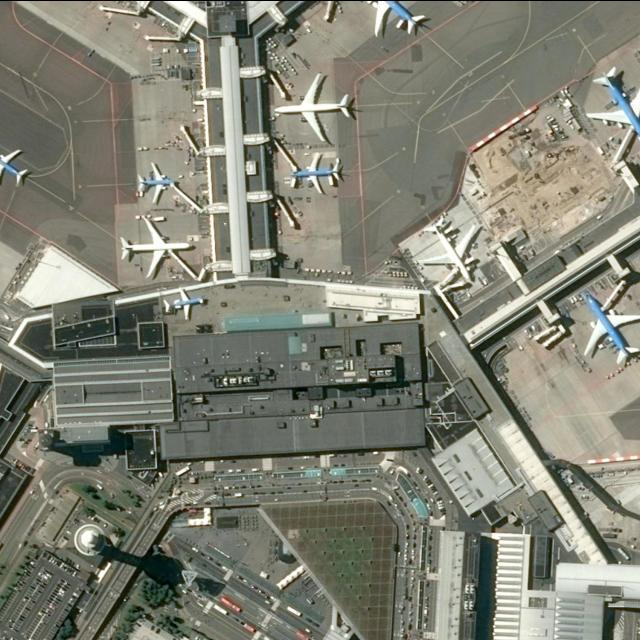Aircraft: (274, 76, 358, 142), (582, 291, 640, 374), (119, 218, 193, 279), (586, 67, 640, 147), (361, 0, 435, 38), (289, 149, 345, 197), (135, 167, 179, 207), (0, 143, 34, 191), (165, 288, 209, 323)
